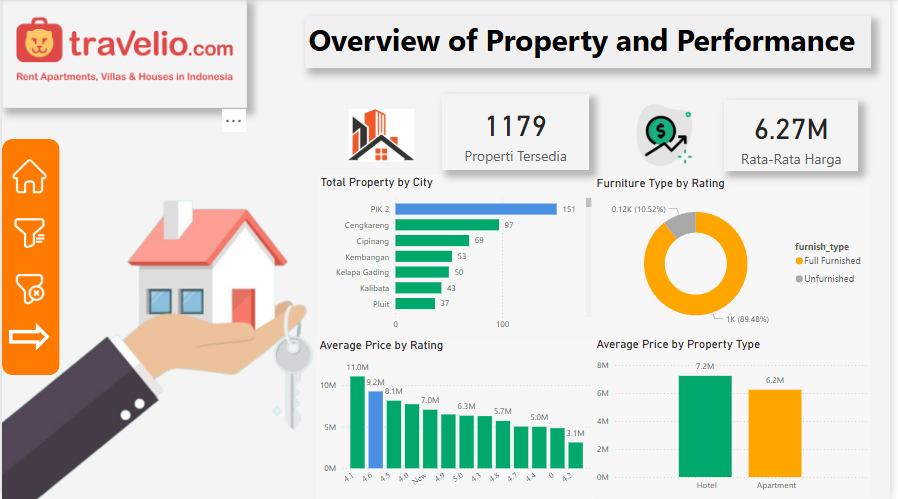

Layout of this report page (visuals, bound fields, positions):
{"tool":"powerbi","page":{"name":"Overview Properti dan Performa","canvas":[1280,720],"ordinal":0},"visuals":[{"type":"clusteredBarChart","title":"Total Property by City","fields":{"Category":["public dim_property.city"],"Y":["CountNonNull(public fact_property_rentals2.property_id)"]},"box":[453.3,253.3,400,233.3],"z":0},{"type":"donutChart","title":"Furniture Type by Rating","fields":{"Category":["public dim_property.furnish_type"],"Y":["CountNonNull(public dim_property.furnish_type)"]},"box":[851.7,255,400,233.3],"z":1000},{"type":"card","title":"Properti Tersedia","fields":{"Values":["Sum(public fact_property_rentals2.availability_number)"]},"box":[633.3,136.7,211.7,110],"z":2000},{"type":"card","fields":{"Values":["Avg(public fact_property_rentals2.price)"]},"box":[1040,145,193.3,101.7],"z":3000},{"type":"textbox","box":[436.7,25,815,75],"z":4000},{"type":"image","box":[0,0,353.3,156.7],"z":5000},{"type":"clusteredColumnChart","title":"Average Price by Rating","fields":{"Y":["Avg(public fact_property_rentals2.price)"],"Category":["public dim_property.rating"]},"box":[451.7,488.3,400,231.7],"z":6000},{"type":"clusteredColumnChart","title":"Average Price by Property Type","fields":{"Category":["public dim_property.property_type"],"Y":["Avg(public fact_property_rentals2.price)"]},"box":[851.7,486.7,400,231.7],"z":7000},{"type":"group","id":"g1","title":"Group 2","box":[0,202.2,83.2,340.2],"z":8000},{"type":"image","box":[493.3,145,105,101.7],"z":9000},{"type":"shape","box":[0,202.2,83.2,340.2],"z":9500,"group":"g1"},{"type":"image","box":[9.4,224.9,58.6,60.5],"z":10000,"group":"g1"},{"type":"image","box":[9.4,308,58.6,60.5],"z":11000,"group":"g1"},{"type":"image","box":[9.4,387.4,58.6,60.5],"z":12000,"group":"g1"},{"type":"shape","box":[9.4,466.8,58.6,39.7],"z":13000,"group":"g1"},{"type":"image","box":[871.7,145,168.3,101.7],"z":14000}]}

Visuals, with their boxes on the page's 1280x720 design canvas (x1, y1, x2, y2). These are canvas units, not pixel positions in the 898x499 screenshot, which may show the page scaled, cropped or inside an application window:
"Total Property by City" clusteredBarChart: 453, 253, 853, 487
"Furniture Type by Rating" donutChart: 852, 255, 1252, 488
"Properti Tersedia" card: 633, 137, 845, 247
card - Avg(public fact_property_rentals2.price): 1040, 145, 1233, 247
textbox: 437, 25, 1252, 100
image: 0, 0, 353, 157
"Average Price by Rating" clusteredColumnChart: 452, 488, 852, 720
"Average Price by Property Type" clusteredColumnChart: 852, 487, 1252, 718
"Group 2" group: 0, 202, 83, 542
image: 493, 145, 598, 247
shape: 0, 202, 83, 542
image: 9, 225, 68, 285
image: 9, 308, 68, 368
image: 9, 387, 68, 448
shape: 9, 467, 68, 506
image: 872, 145, 1040, 247
